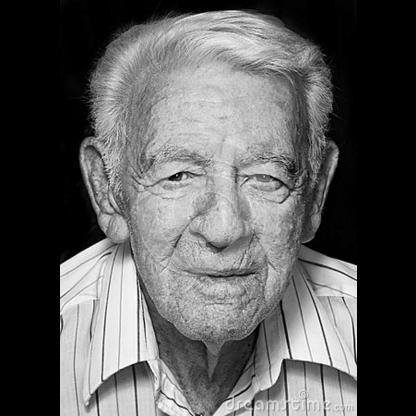Male: (78, 43, 338, 341)
